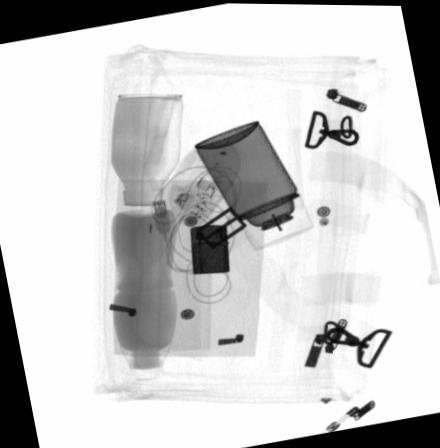Lighter: (189, 223, 229, 274)
Sprayer: (193, 118, 313, 249)
